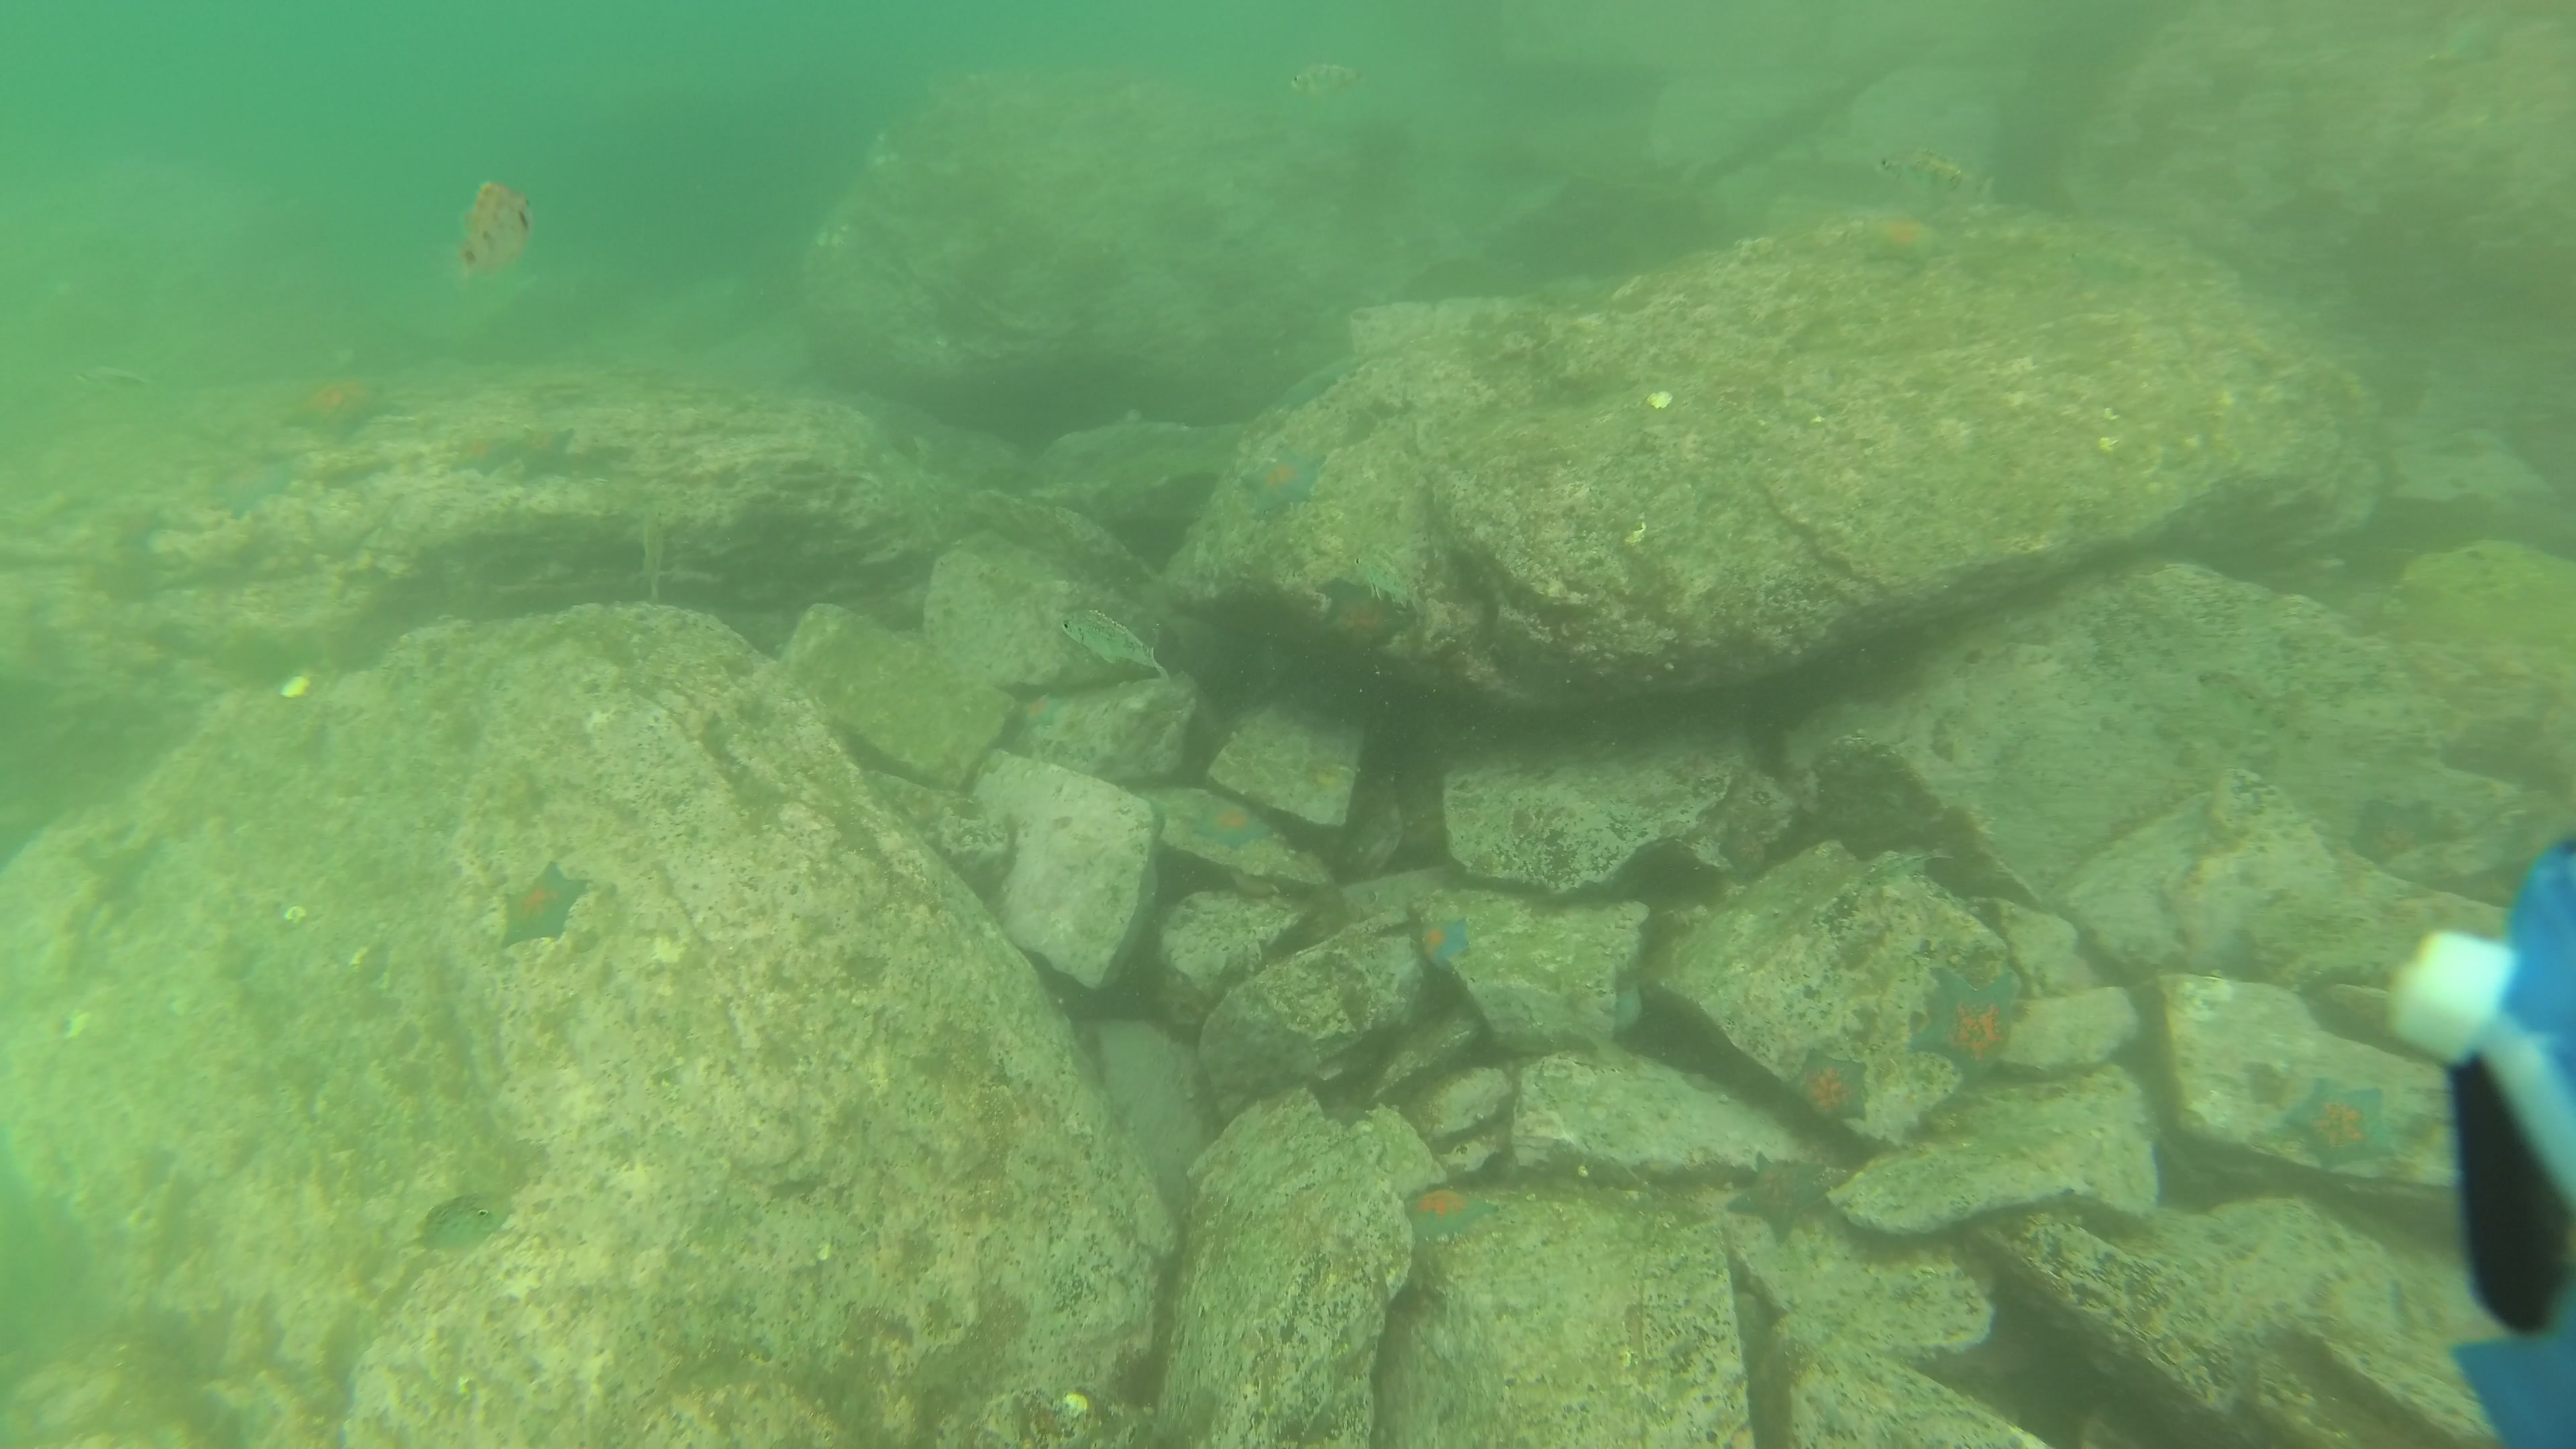starfish: (1909, 964, 2020, 1092), (2279, 1072, 2404, 1178), (1721, 1150, 1835, 1249), (1318, 571, 1422, 662), (281, 366, 403, 442), (501, 858, 594, 950), (1235, 437, 1332, 522), (2342, 794, 2443, 869), (1780, 1044, 1872, 1123), (1852, 209, 1960, 274), (1399, 1184, 1502, 1242), (207, 453, 292, 522), (1189, 794, 1277, 853), (502, 421, 579, 483), (1412, 915, 1474, 980), (103, 502, 170, 556), (451, 432, 520, 478), (1016, 688, 1069, 734)
